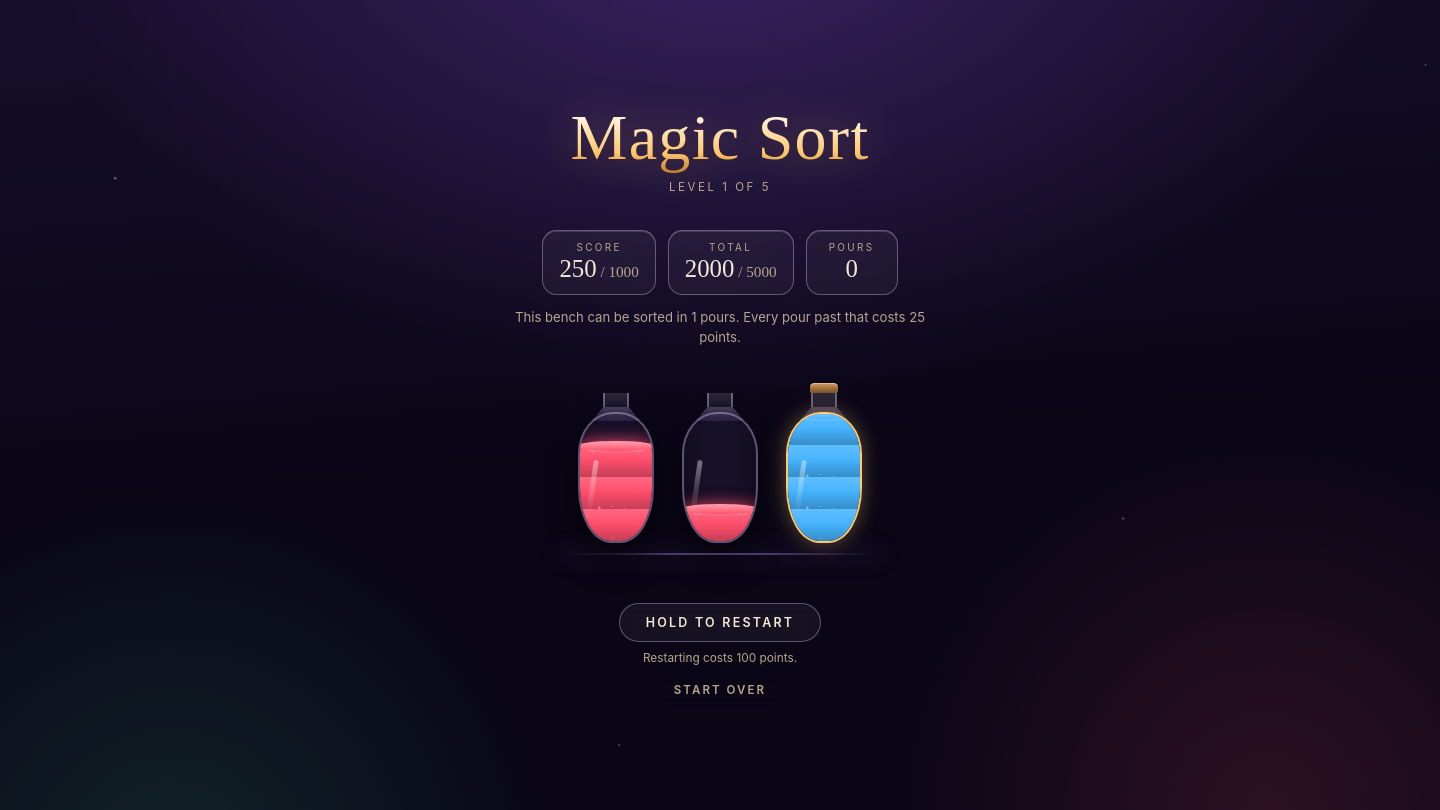
it: Game › counts what this bench earns into the total as it is earned
The width and height of the screenshot is (1440, 810).
Click the button named "Flask 2, a 4-layer flask holding crimson from bottom to top".
click(720, 463)  # box [682,384,758,542]
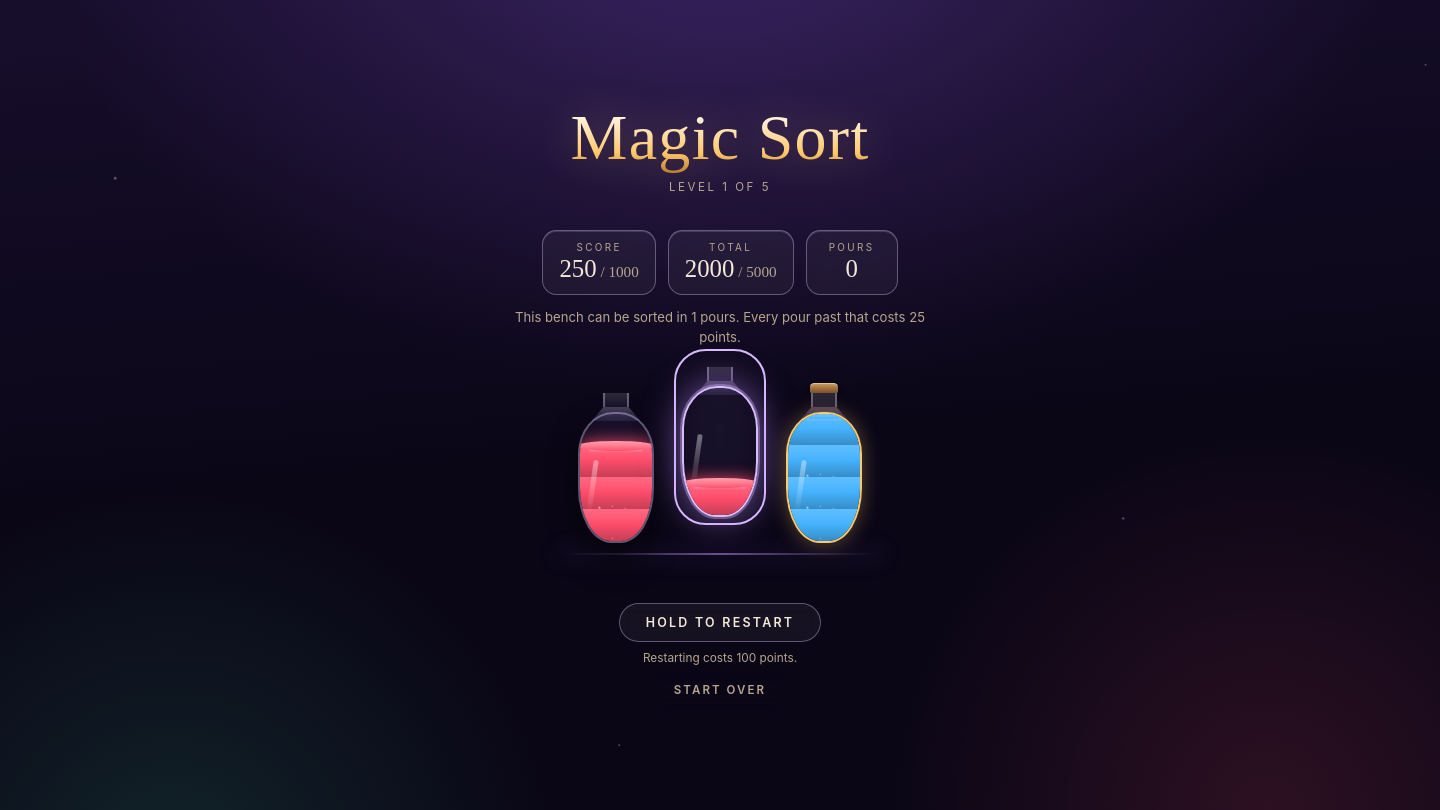
Click the button named "Flask 1, a 4-layer flask holding crimson, crimson, crimson f".
click(616, 463)  # box [578,384,654,542]
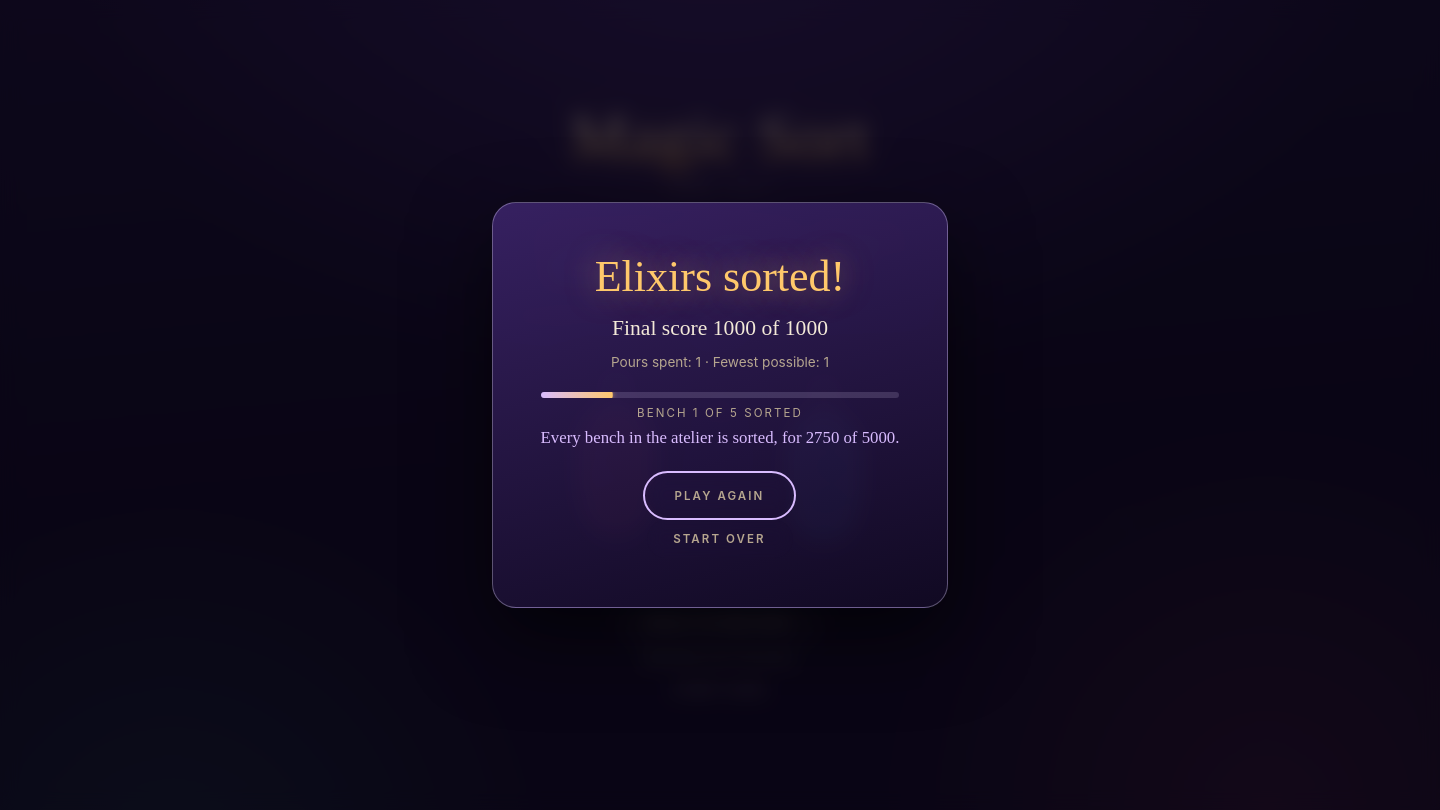
Expected: the element named "Total" reads "2750 / 5000", [691,255,783,283]
